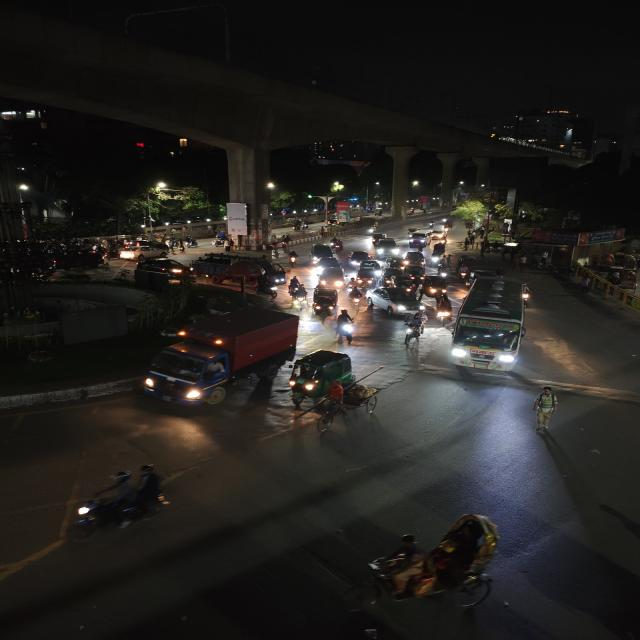bus: (448, 295, 530, 378)
car: (368, 285, 424, 319), (133, 257, 193, 279), (119, 240, 172, 260), (316, 259, 347, 289), (371, 236, 401, 258), (308, 243, 336, 265), (403, 250, 428, 268), (347, 250, 371, 268), (406, 228, 432, 244), (368, 232, 396, 246), (118, 246, 142, 260), (429, 230, 446, 242)
cng: (284, 349, 372, 433), (287, 348, 354, 401), (311, 286, 340, 318), (385, 268, 415, 294), (423, 274, 450, 298), (355, 268, 377, 288), (384, 270, 402, 288), (408, 265, 425, 282), (429, 230, 446, 242)
motorcycle: (68, 462, 178, 540), (332, 308, 357, 348), (402, 309, 431, 342), (433, 294, 454, 324), (347, 283, 366, 309), (287, 276, 305, 303), (517, 282, 536, 306), (436, 255, 450, 279), (184, 235, 202, 250), (286, 250, 301, 266), (458, 264, 468, 280)
pedestrian: (525, 384, 563, 438), (222, 240, 232, 252), (320, 226, 327, 239)
pickup_van: (201, 257, 283, 289)
rickshaw: (332, 506, 510, 620), (282, 346, 386, 434)
truck: (138, 305, 302, 409)
